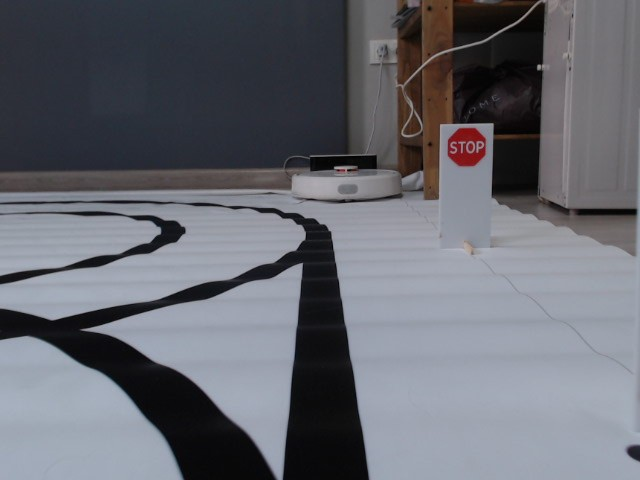Stop: (445, 124, 489, 168)
